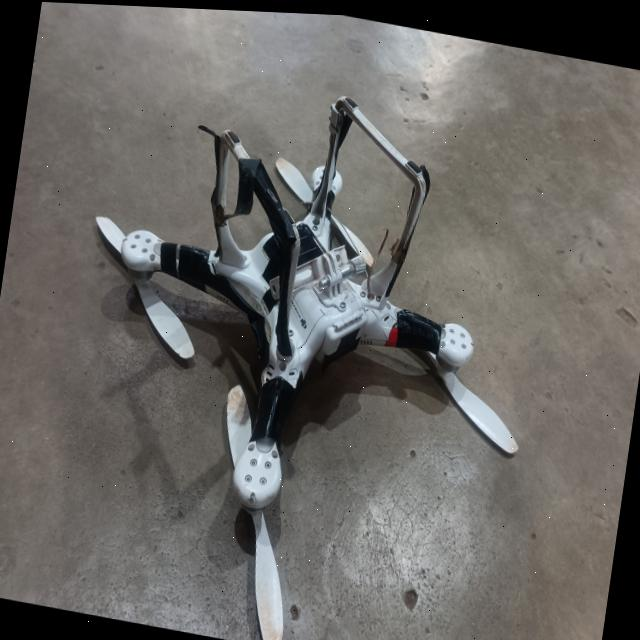drone: (15, 35, 593, 640)
